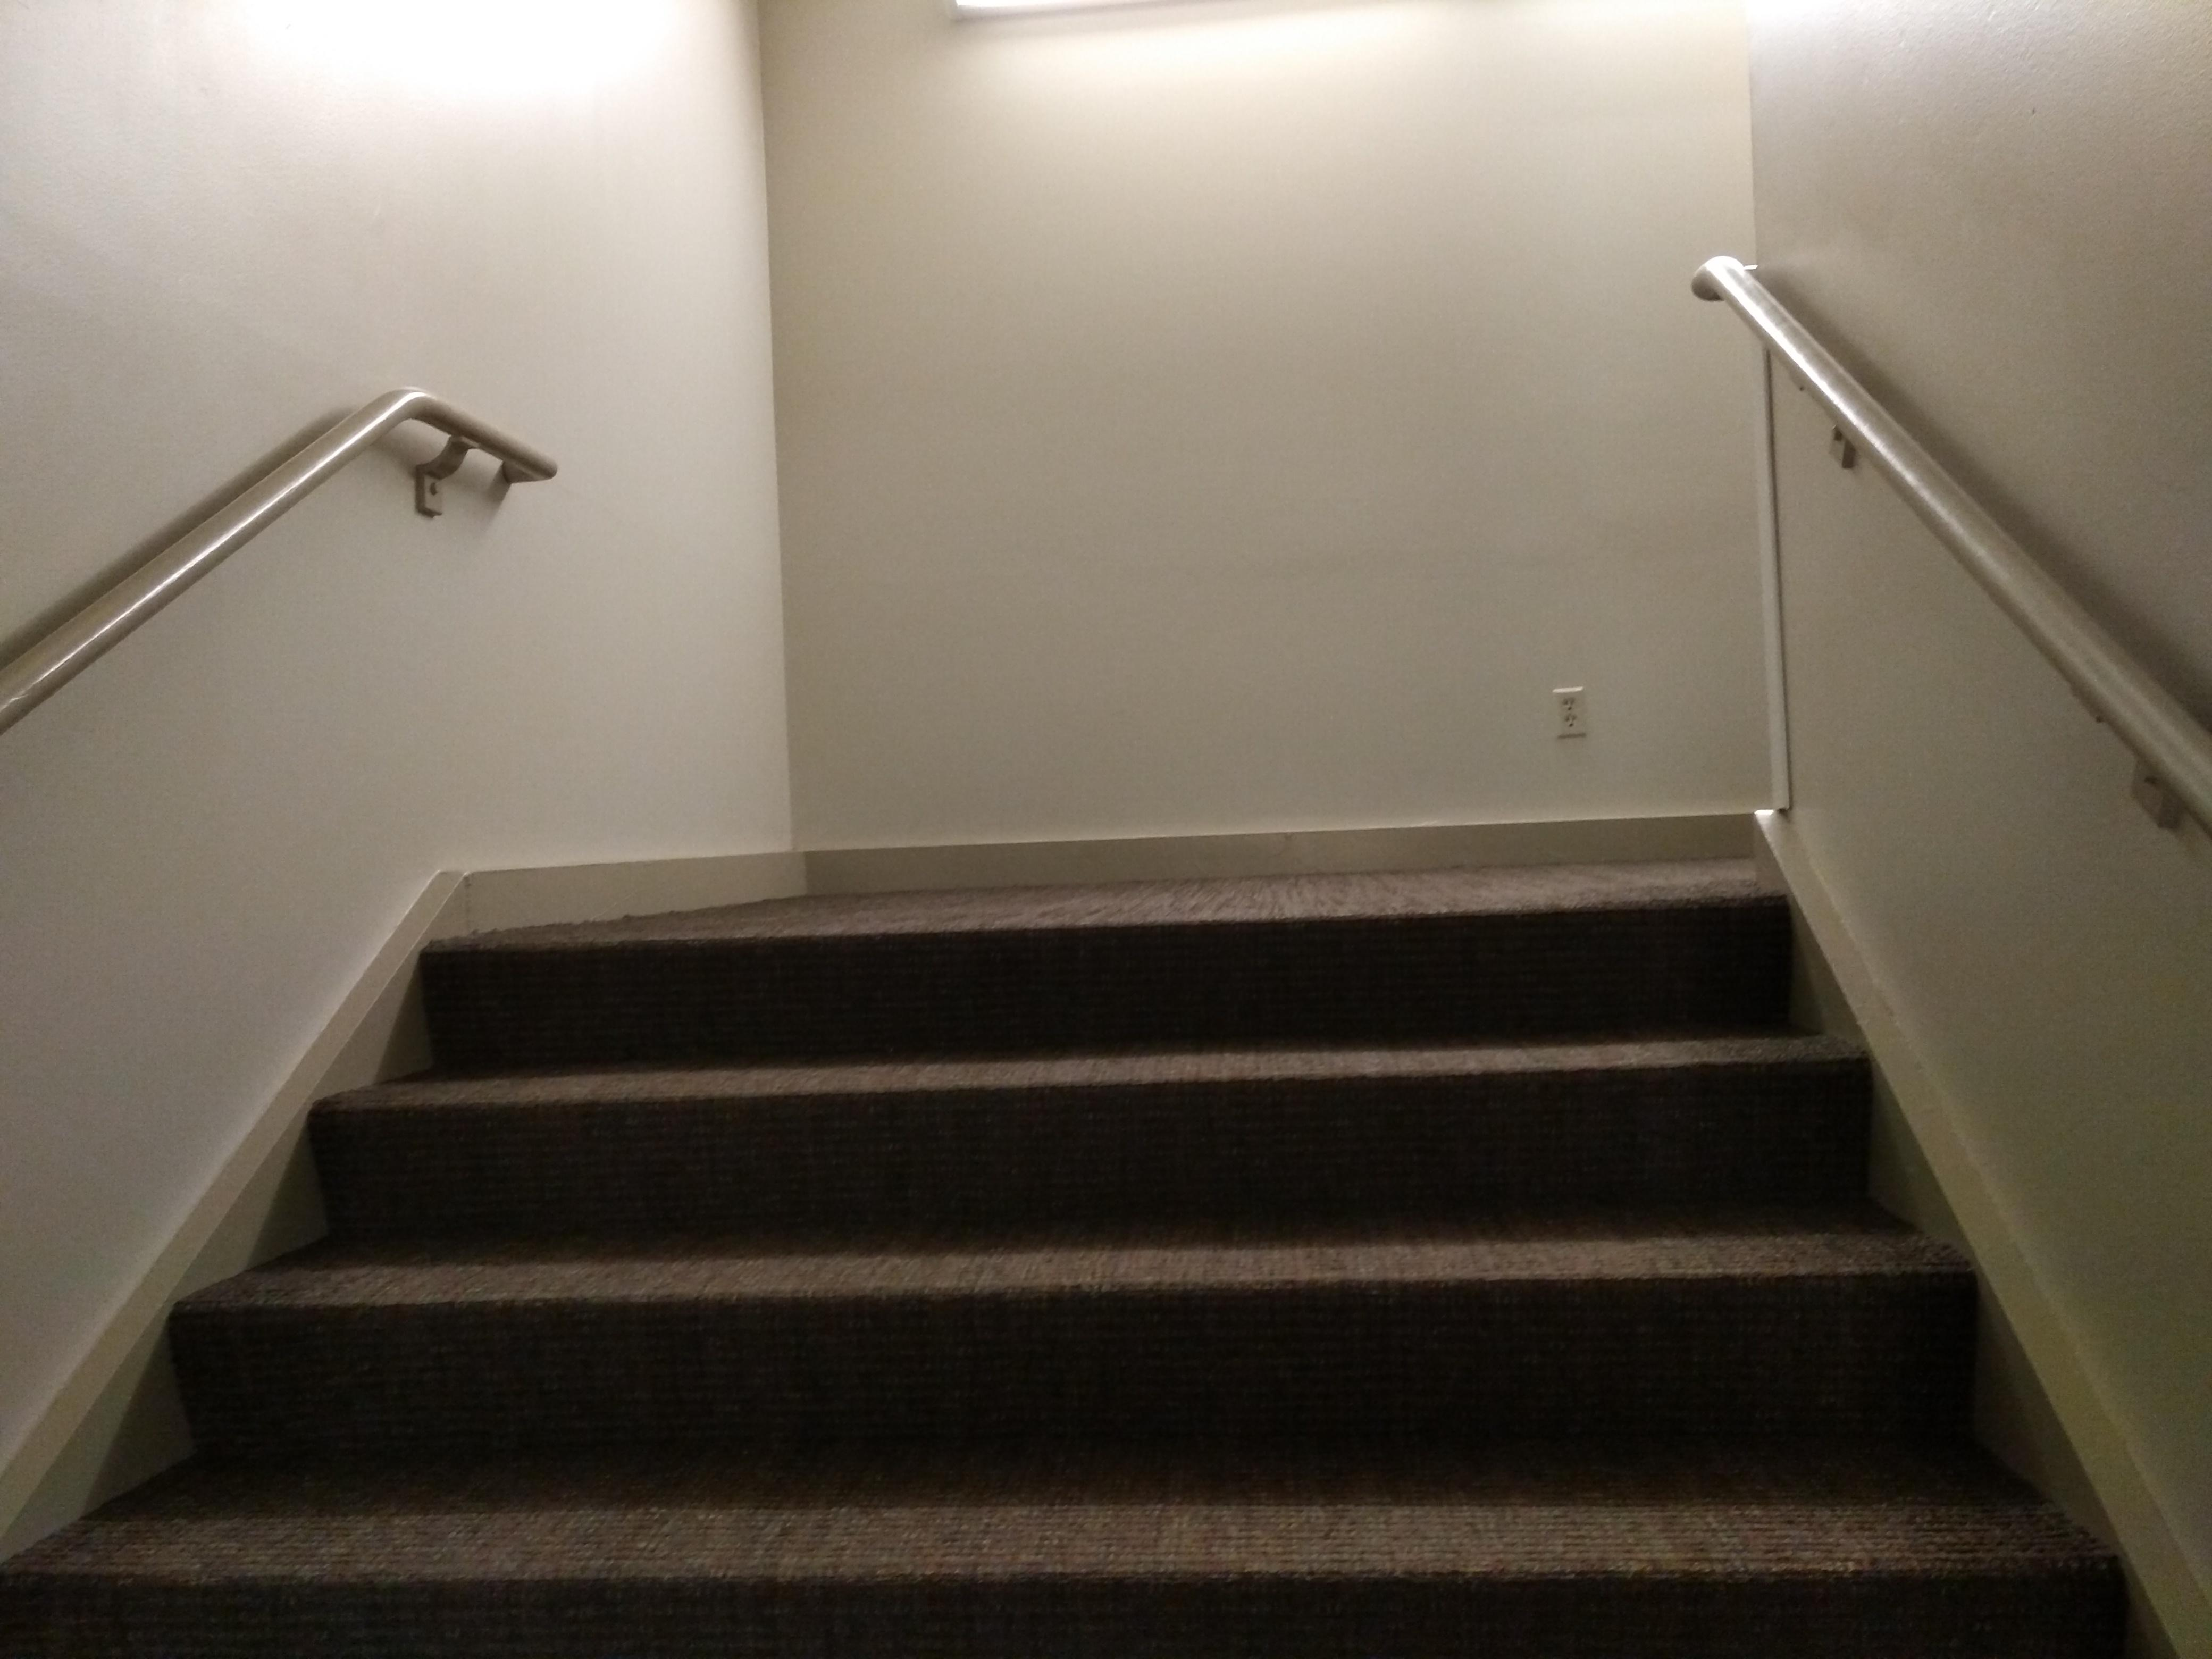stairs_up: (40, 896, 2139, 1619)
